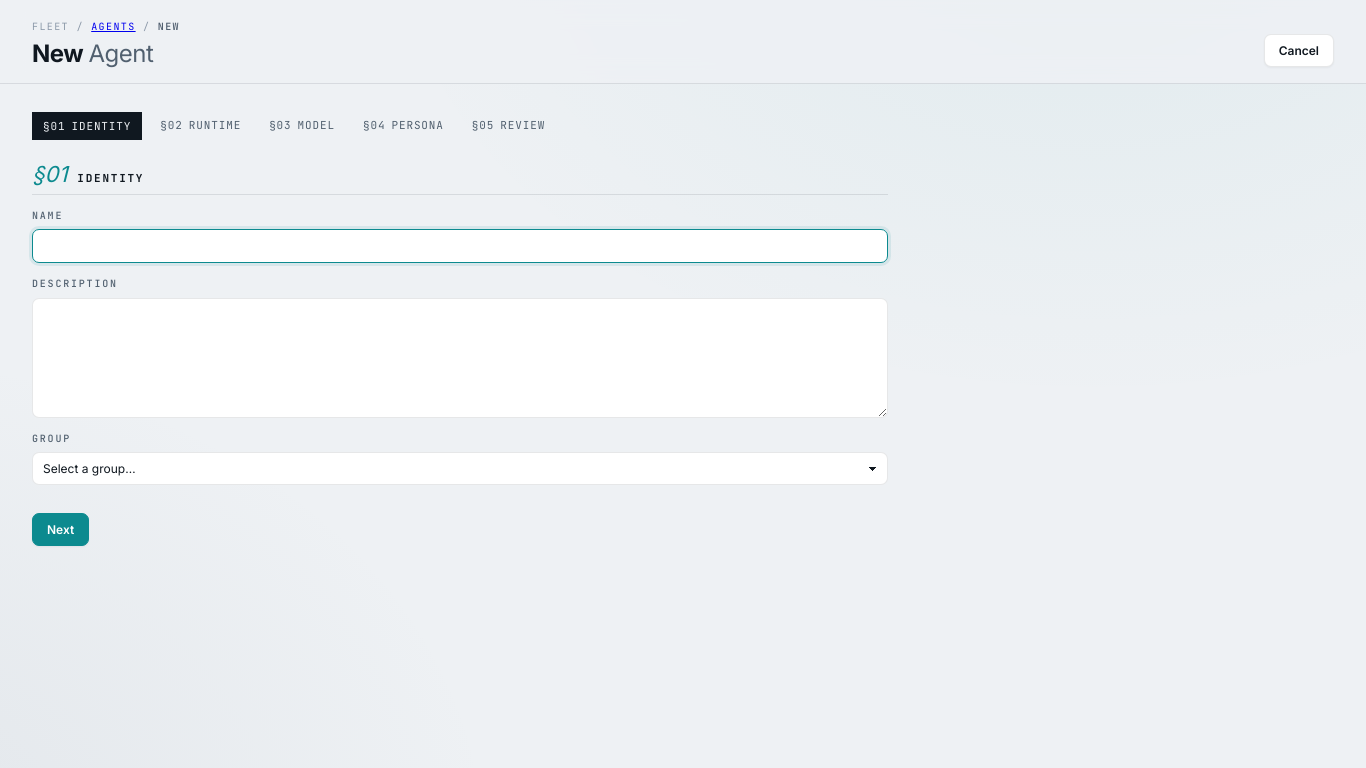
Test: AgentWizard › refuses to jump forward past an unfinished step
This screenshot has width=1366, height=768.
Click the button "§05 Review": (508, 125) [462,112,555,138]
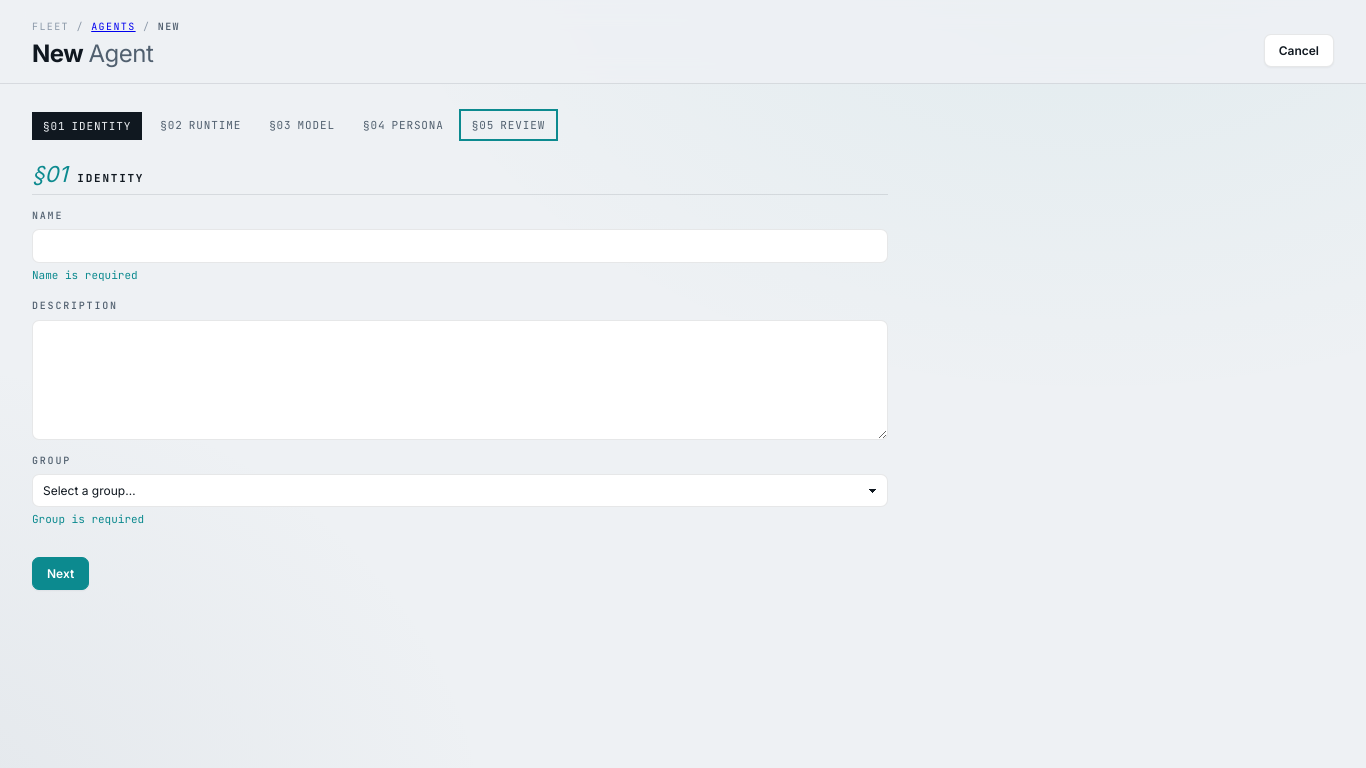
Check: the text "Name is required" is shown, box [32,269,138,283]
